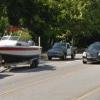Boat: (0, 30, 44, 70)
